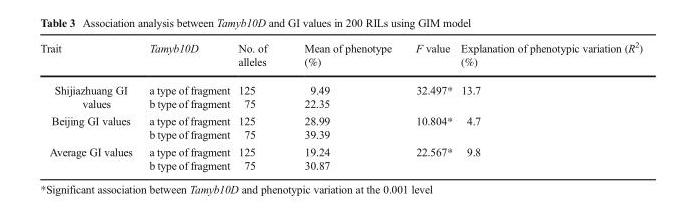table: (39, 39, 642, 171)
table column: (456, 39, 642, 171), (284, 39, 402, 171), (39, 39, 140, 171), (140, 39, 233, 171), (402, 39, 456, 171), (233, 39, 284, 171)
table column header: (39, 39, 642, 75)
table row: (39, 39, 642, 75), (39, 75, 642, 96), (39, 111, 642, 127), (39, 142, 642, 158), (39, 96, 642, 111), (39, 127, 642, 142), (39, 158, 642, 171)
table spanning cell: (456, 75, 642, 111), (456, 111, 642, 142), (456, 142, 642, 171), (39, 75, 140, 111), (39, 111, 140, 142), (39, 142, 140, 171), (402, 75, 456, 111), (402, 111, 456, 142), (402, 142, 456, 171)
